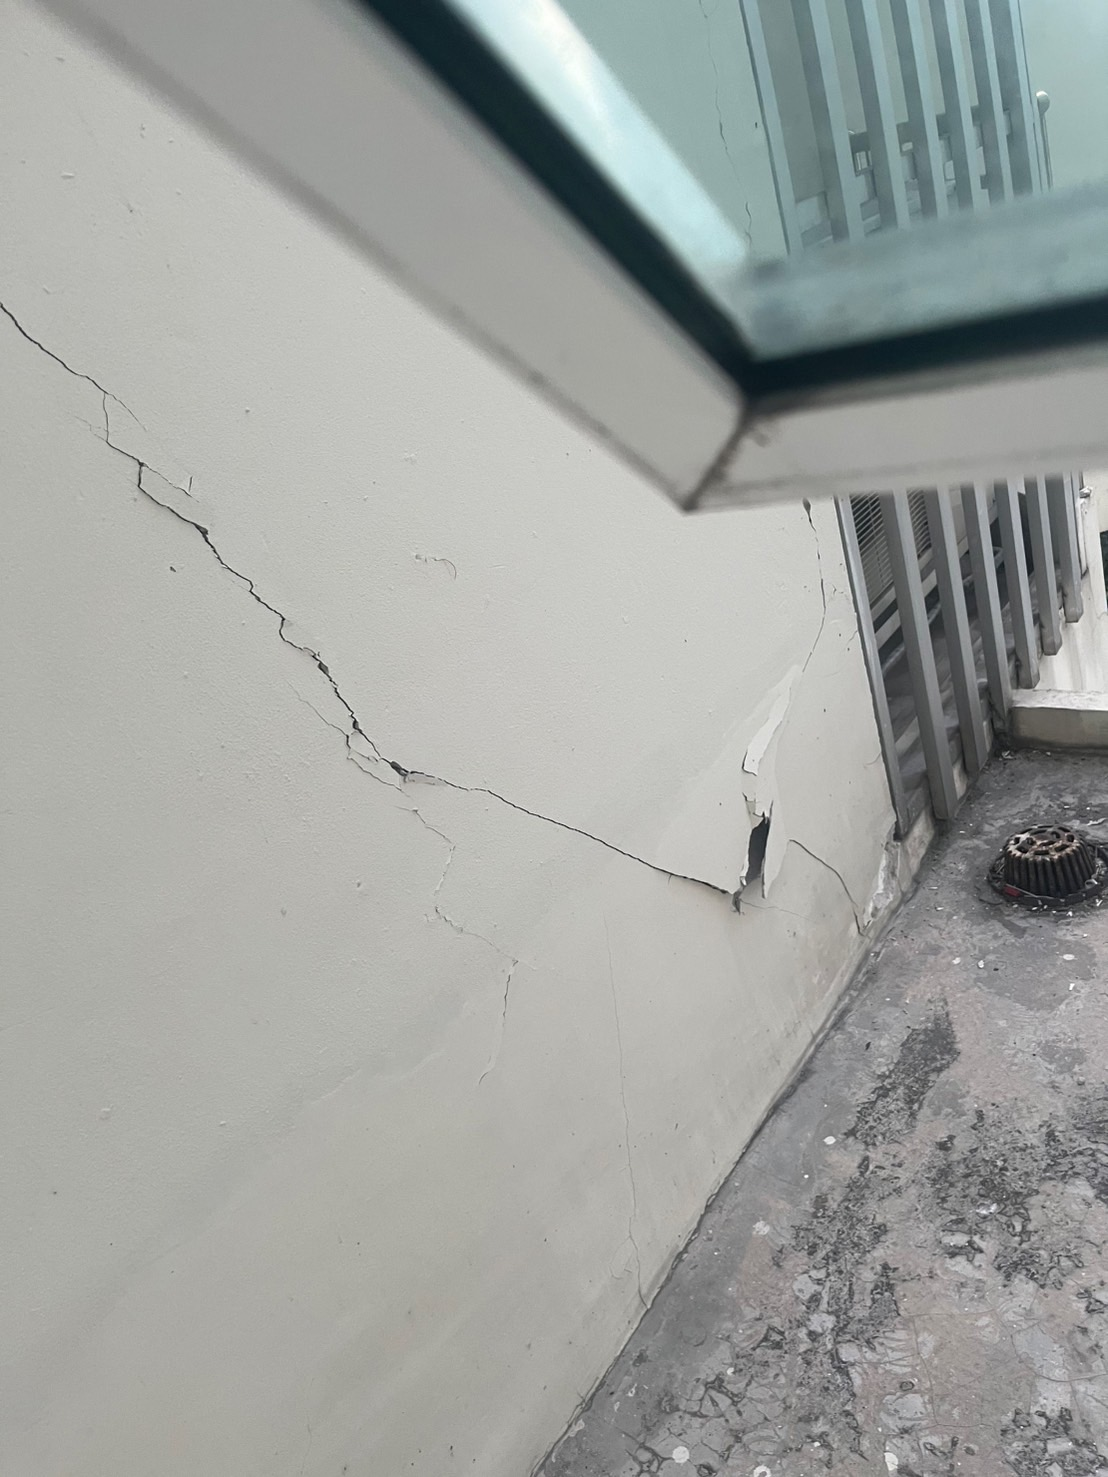Medium: (55, 358, 517, 967)
